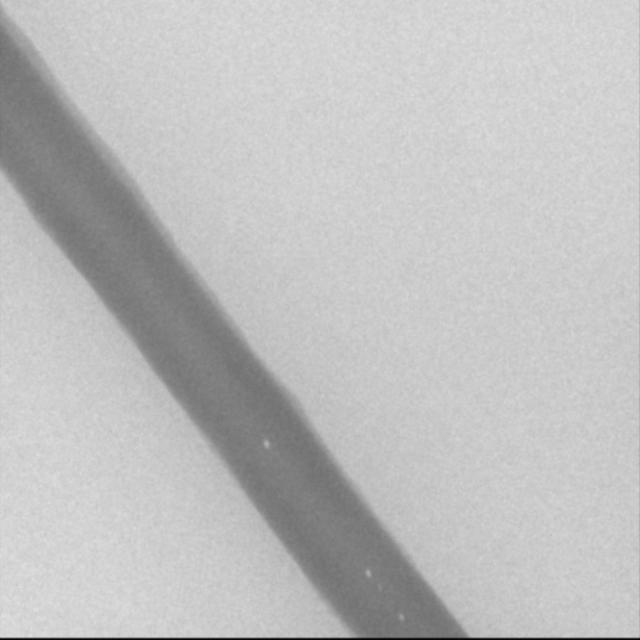air hole: (397, 612, 406, 622), (262, 439, 270, 450), (364, 568, 372, 579)
